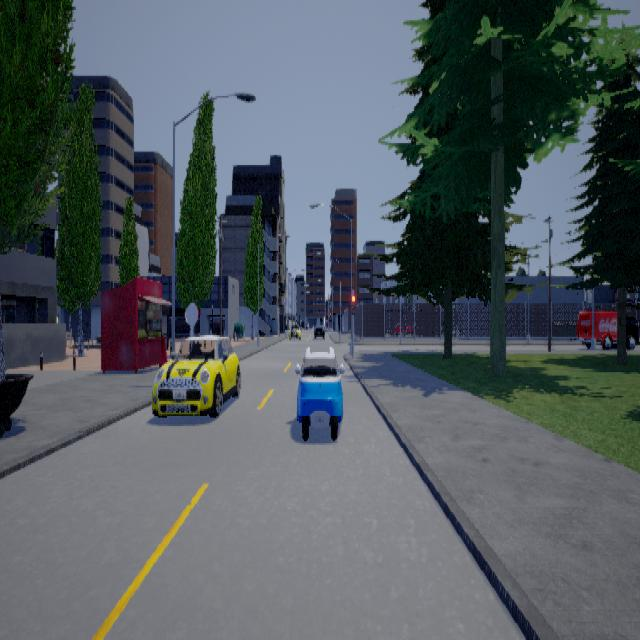red_light: (350, 290, 354, 316)
vehicle: (151, 333, 240, 416), (294, 354, 344, 439), (577, 303, 639, 349), (312, 318, 325, 338), (288, 322, 300, 338)
